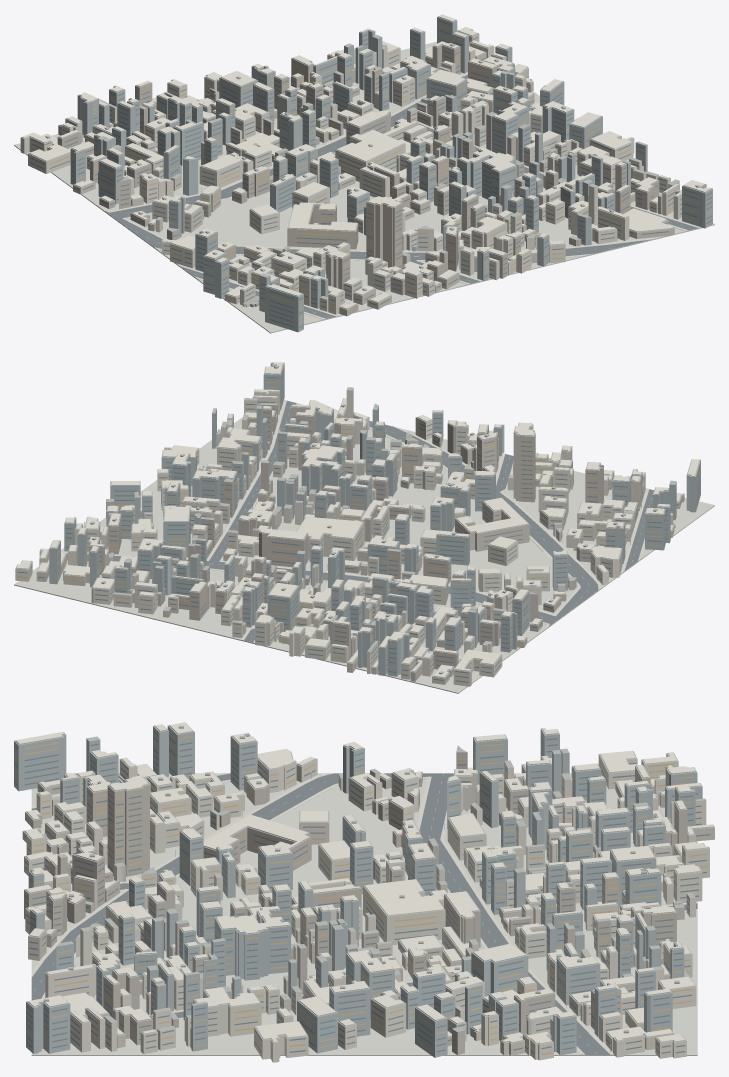
3 renders of one model, top to bottom at view 1: azimuth 30°, elevation 25°; view 2: azimuth 150°, elevation 25°; view 3: azimuth 270°, elevation 25°, orthographic. The views are drawn at different scales.
Parts seen in each view (by area): view 1: city; view 2: city; view 3: city.
Part boxes in pixels (x1,y1,x2,y2): city: [14, 14, 714, 333]; city: [14, 362, 714, 693]; city: [14, 722, 714, 1062].
Size of the model in its own units: 526 by 72.35 by 526.
